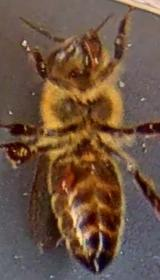varroa_mite: (46, 167, 84, 205)
